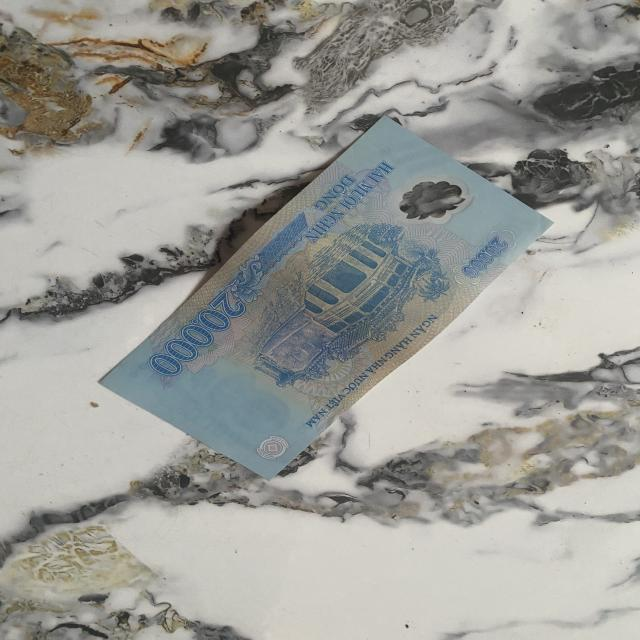20 000 VND: (98, 114, 555, 482)
